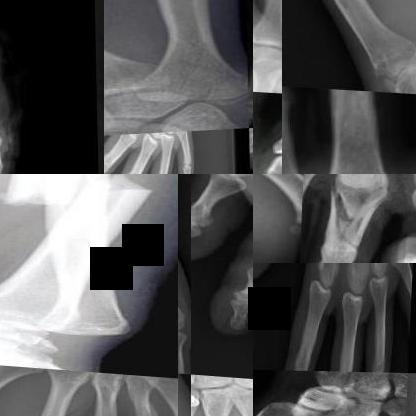fracture: (330, 179, 394, 249), (126, 395, 168, 415), (86, 402, 128, 415), (304, 174, 315, 220), (192, 389, 210, 415)
